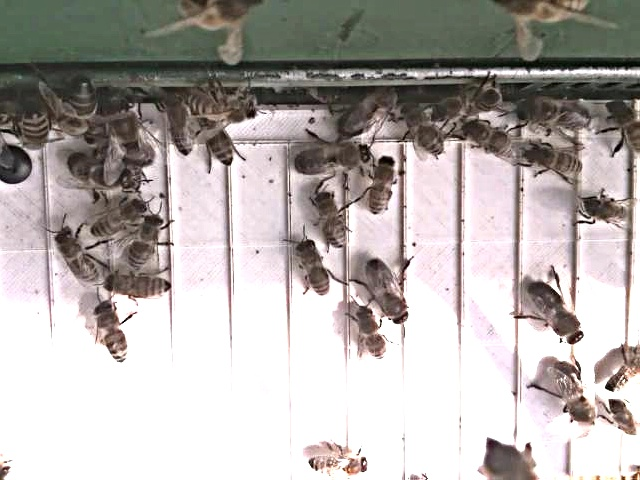Drone: (551, 358, 602, 439), (529, 279, 586, 349), (363, 258, 412, 329), (65, 150, 138, 196), (292, 140, 374, 180), (515, 99, 594, 137)
Worker: (52, 225, 102, 288), (90, 196, 148, 244), (403, 108, 449, 164), (103, 270, 174, 306), (295, 236, 334, 301), (94, 301, 131, 369), (313, 187, 350, 253), (464, 120, 521, 161), (526, 143, 589, 180), (129, 212, 166, 274), (366, 156, 400, 221), (354, 306, 391, 365), (306, 453, 374, 480), (578, 196, 634, 227)
